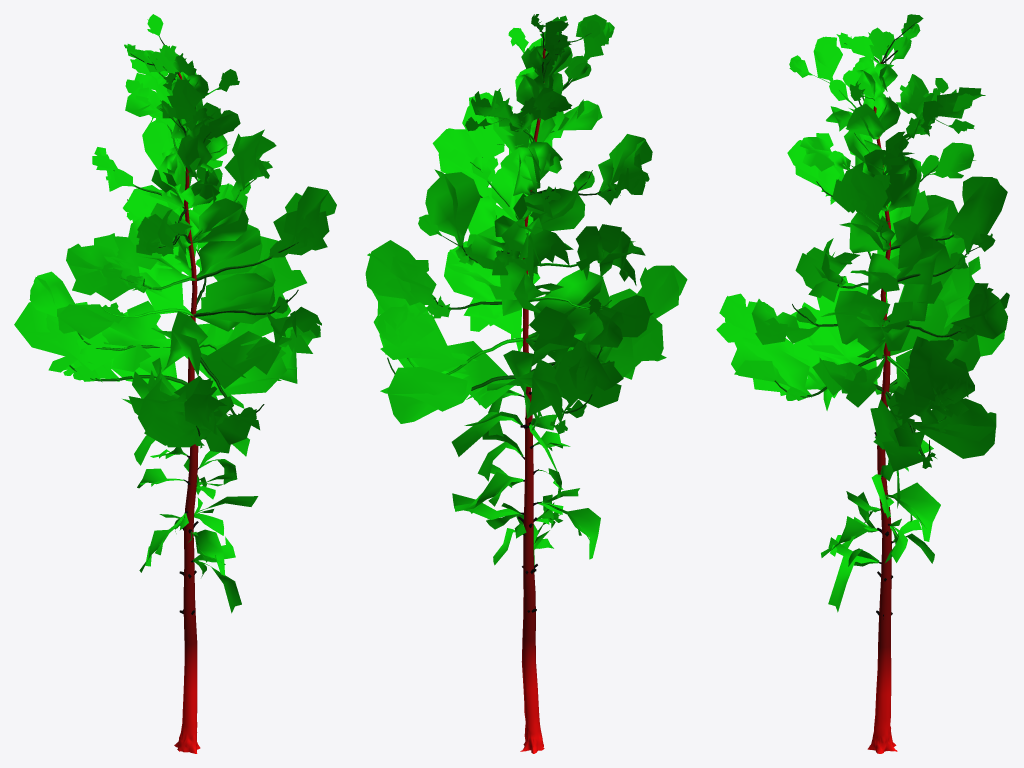
Rendered from Pine_002_M3.FBX.
3 renders of one model, left to right at view 1: azimuth 30°, elevation 25°; view 2: azimuth 150°, elevation 25°; view 3: azimuth 270°, elevation 25°, orthographic. The views are drawn at different scales.
Parts seen in each view (by area): view 1: M3_LOD0; view 2: M3_LOD0; view 3: M3_LOD0.
Boxes of the visible parts, left/top/right/bottom form: M3_LOD0: left=14, top=14, right=336, bottom=753; M3_LOD0: left=365, top=14, right=687, bottom=753; M3_LOD0: left=716, top=14, right=1009, bottom=753.
Size of what is drawn, in the model's own units: 375 by 965 by 354.
